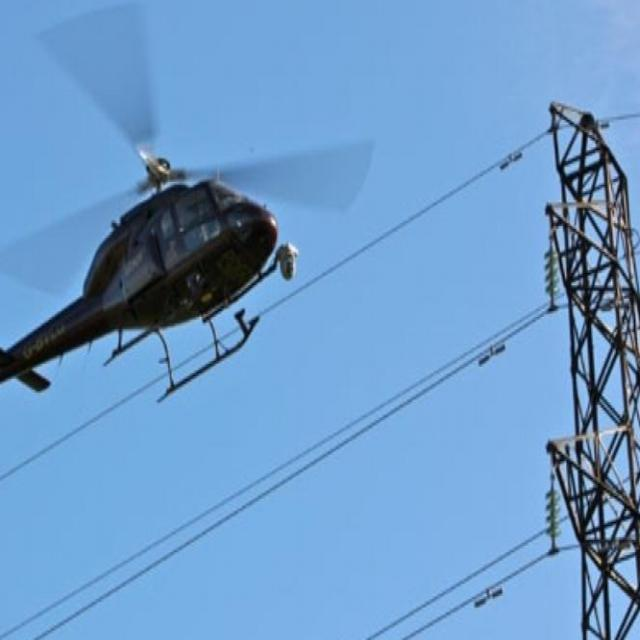helicopter: (1, 11, 363, 446)
